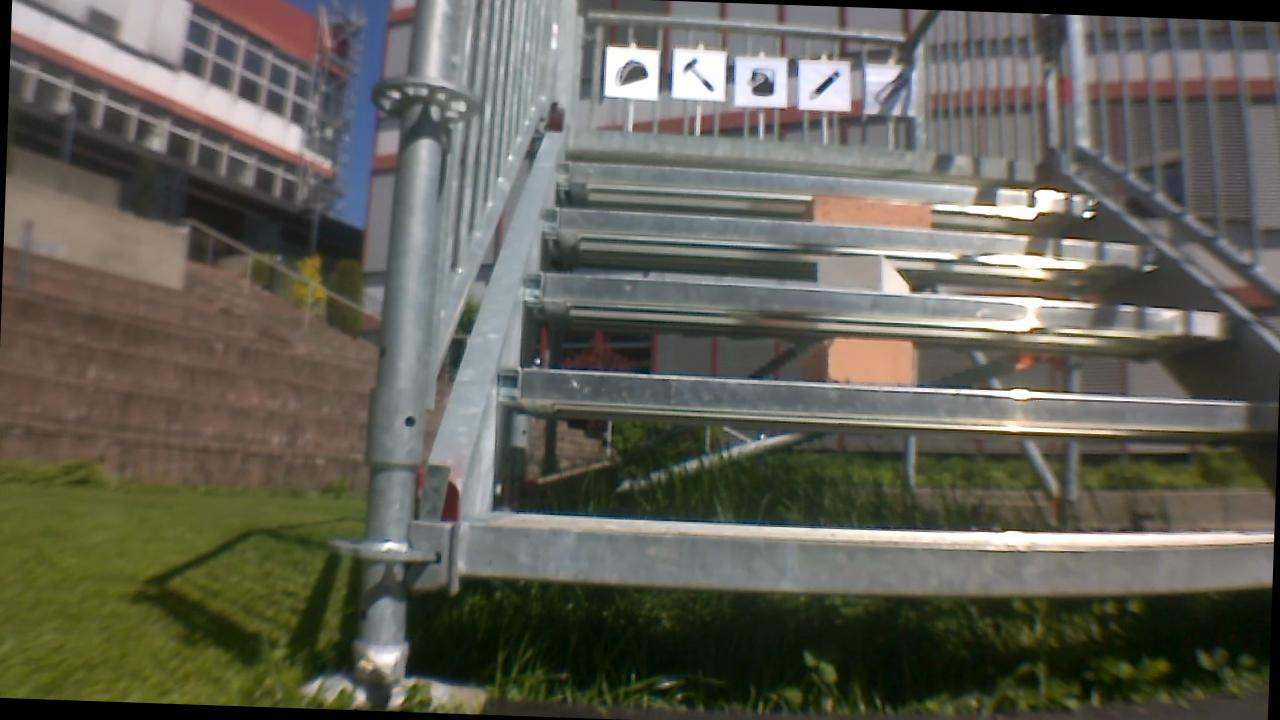brick: (812, 245, 915, 291), (825, 335, 915, 384), (810, 197, 936, 228)
edge: (463, 496, 1274, 608), (483, 367, 1279, 437), (523, 278, 1228, 342), (538, 199, 1160, 269), (559, 155, 1115, 220), (565, 127, 1056, 180)
steps: (416, 115, 1280, 618)
